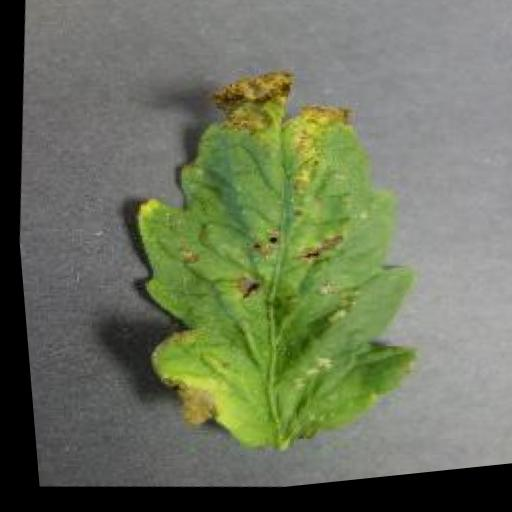Bacterial Spot: (84, 40, 457, 493)
